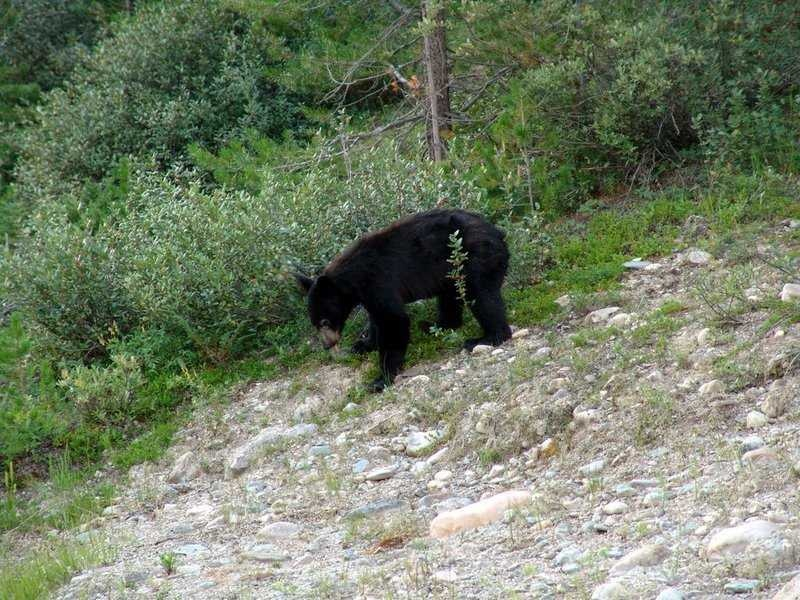bear: (278, 245, 406, 373)
